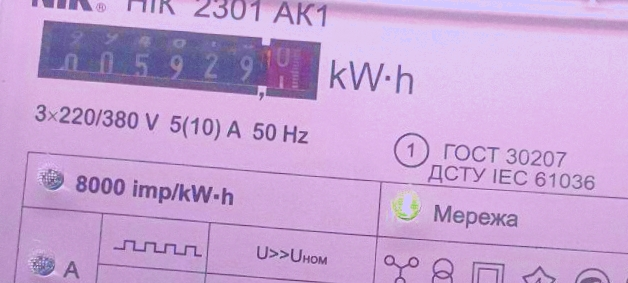0: (96, 47, 116, 76), (59, 47, 81, 71), (273, 44, 293, 68)
2: (200, 48, 220, 82)
5: (131, 49, 150, 78)
9: (164, 50, 186, 81), (236, 51, 256, 84), (65, 28, 84, 47)
screen: (30, 14, 329, 109)
